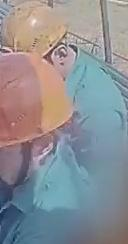helmet: (0, 51, 74, 150), (0, 0, 67, 57)
vest: (7, 152, 86, 243), (72, 46, 128, 172)
